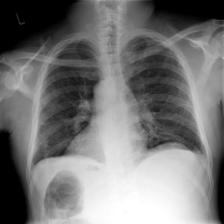normal: (29, 29, 207, 172)
